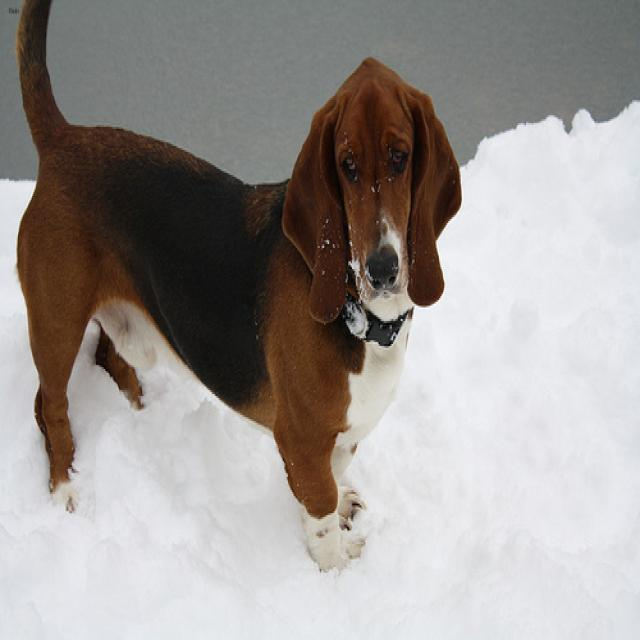dog-basset_hound: (4, 2, 467, 582)
